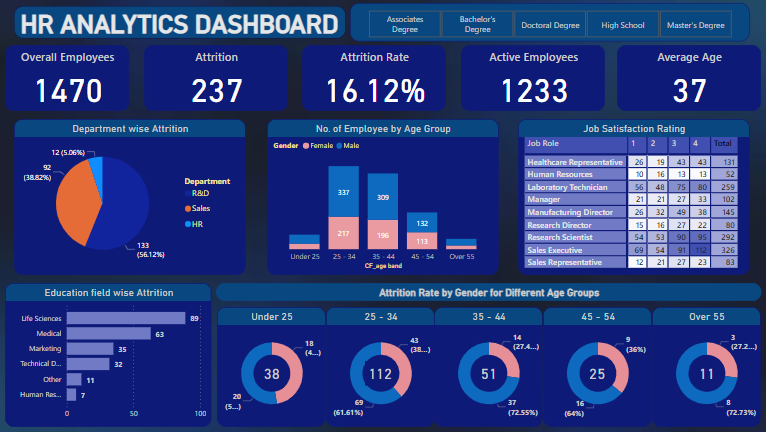

This screenshot's page, from the dashboard's own definition file:
{"tool":"powerbi","page":{"name":"Page 1","canvas":[1280,720],"ordinal":0},"visuals":[{"type":"card","title":"Overall Employees","fields":{"Values":["Sum(HR data.Employee Count)"]},"box":[10,74.3,207.1,110],"z":0},{"type":"card","title":"Attrition","fields":{"Values":["Sum(HR data.Attrition Count)"]},"box":[241.4,74.3,240,110],"z":1000},{"type":"card","title":"Attrition Rate","fields":{"Values":["HR data.Attrition Rate"]},"box":[505.7,74.3,240,110],"z":2000},{"type":"card","title":"Active Employees","fields":{"Values":["HR data.Active Employees"]},"box":[770,74.3,240,110],"z":3000},{"type":"card","title":"Average Age","fields":{"Values":["Avg(HR data.Age)"]},"box":[1030,74.3,240,110],"z":4000},{"type":"pieChart","title":"Department wise Attrition","fields":{"Category":["HR data.Department"],"Y":["Sum(HR data.Attrition Count)"]},"box":[24.3,198.6,385.7,260],"z":5000},{"type":"columnChart","title":"No. of Employee by Age Group","fields":{"Category":["HR data.CF_age band"],"Y":["Sum(HR data.Employee Count)"],"Series":["HR data.Gender"]},"box":[447.1,198.6,385.7,260],"z":6000},{"type":"pivotTable","title":"Job Satisfaction Rating","fields":{"Rows":["HR data.Job Role"],"Columns":["HR data.Job Satisfaction"],"Values":["Sum(HR data.Employee Count)"]},"box":[864.3,198.6,385.7,260],"z":7000},{"type":"barChart","title":"Education field wise Attrition","fields":{"Category":["HR data.Education Field"],"Y":["Sum(HR data.Attrition Count)"]},"box":[10,471.4,344.3,240],"z":8000},{"type":"donutChart","title":"Under 25","fields":{"Y":["Sum(HR data.Attrition Count)"],"Category":["HR data.Gender"],"Series":["HR data.CF_age band"]},"box":[362.9,511.4,181.4,200],"z":9000},{"type":"textbox","title":"Attrition Rate by Gender for Different Age Groups","box":[361.4,471.4,908.6,30],"z":9001},{"type":"donutChart","title":"25 - 34","fields":{"Y":["Sum(HR data.Attrition Count)"],"Category":["HR data.Gender"],"Series":["HR data.CF_age band"]},"box":[544.3,511.4,181.4,200],"z":9002},{"type":"donutChart","title":"35 - 44","fields":{"Y":["Sum(HR data.Attrition Count)"],"Category":["HR data.Gender"],"Series":["HR data.CF_age band"]},"box":[725.7,511.4,181.4,200],"z":9003},{"type":"donutChart","title":"45 - 54","fields":{"Y":["Sum(HR data.Attrition Count)"],"Category":["HR data.Gender"],"Series":["HR data.CF_age band"]},"box":[907.1,511.4,181.4,200],"z":9004},{"type":"donutChart","title":"Over 55","fields":{"Y":["Sum(HR data.Attrition Count)"],"Category":["HR data.Gender"],"Series":["HR data.CF_age band"]},"box":[1088.6,511.4,181.4,200],"z":9005},{"type":"card","fields":{"Values":["Sum(HR data.Attrition Count)"]},"box":[434.3,601.4,38.6,41.4],"z":9006},{"type":"card","fields":{"Values":["Sum(HR data.Attrition Count)"]},"box":[610,601.4,50,41.4],"z":9007},{"type":"card","fields":{"Values":["Sum(HR data.Attrition Count)"]},"box":[797.1,601.4,38.6,41.4],"z":9008},{"type":"card","fields":{"Values":["Sum(HR data.Attrition Count)"]},"box":[975.7,601.4,44.3,41.4],"z":9009},{"type":"card","fields":{"Values":["Sum(HR data.Attrition Count)"]},"box":[1160,601.4,38.6,41.4],"z":9010},{"type":"textbox","title":"HR ANALYTICS DASHBOARD","box":[24.3,10,552.9,54.3],"z":9011},{"type":"slicer","fields":{"Values":["HR data.Education"]},"box":[584.3,4.3,665.7,64.3],"z":9012}]}

Visuals, with their boxes in screenshot pixels (x1, y1, x2, y2), scaled from the page's 1280x720 canvas onto the 766x432 screenshot:
"Overall Employees" card: l=6, t=45, r=130, b=111
"Attrition" card: l=144, t=45, r=288, b=111
"Attrition Rate" card: l=303, t=45, r=446, b=111
"Active Employees" card: l=461, t=45, r=604, b=111
"Average Age" card: l=616, t=45, r=760, b=111
"Department wise Attrition" pieChart: l=15, t=119, r=245, b=275
"No. of Employee by Age Group" columnChart: l=268, t=119, r=498, b=275
"Job Satisfaction Rating" pivotTable: l=517, t=119, r=748, b=275
"Education field wise Attrition" barChart: l=6, t=283, r=212, b=427
"Under 25" donutChart: l=217, t=307, r=326, b=427
"Attrition Rate by Gender for Different Age Groups" textbox: l=216, t=283, r=760, b=301
"25 - 34" donutChart: l=326, t=307, r=434, b=427
"35 - 44" donutChart: l=434, t=307, r=543, b=427
"45 - 54" donutChart: l=543, t=307, r=651, b=427
"Over 55" donutChart: l=651, t=307, r=760, b=427
card - Sum(HR data.Attrition Count): l=260, t=361, r=283, b=386
card - Sum(HR data.Attrition Count): l=365, t=361, r=395, b=386
card - Sum(HR data.Attrition Count): l=477, t=361, r=500, b=386
card - Sum(HR data.Attrition Count): l=584, t=361, r=610, b=386
card - Sum(HR data.Attrition Count): l=694, t=361, r=717, b=386
"HR ANALYTICS DASHBOARD" textbox: l=15, t=6, r=345, b=39
slicer - HR data.Education: l=350, t=3, r=748, b=41
